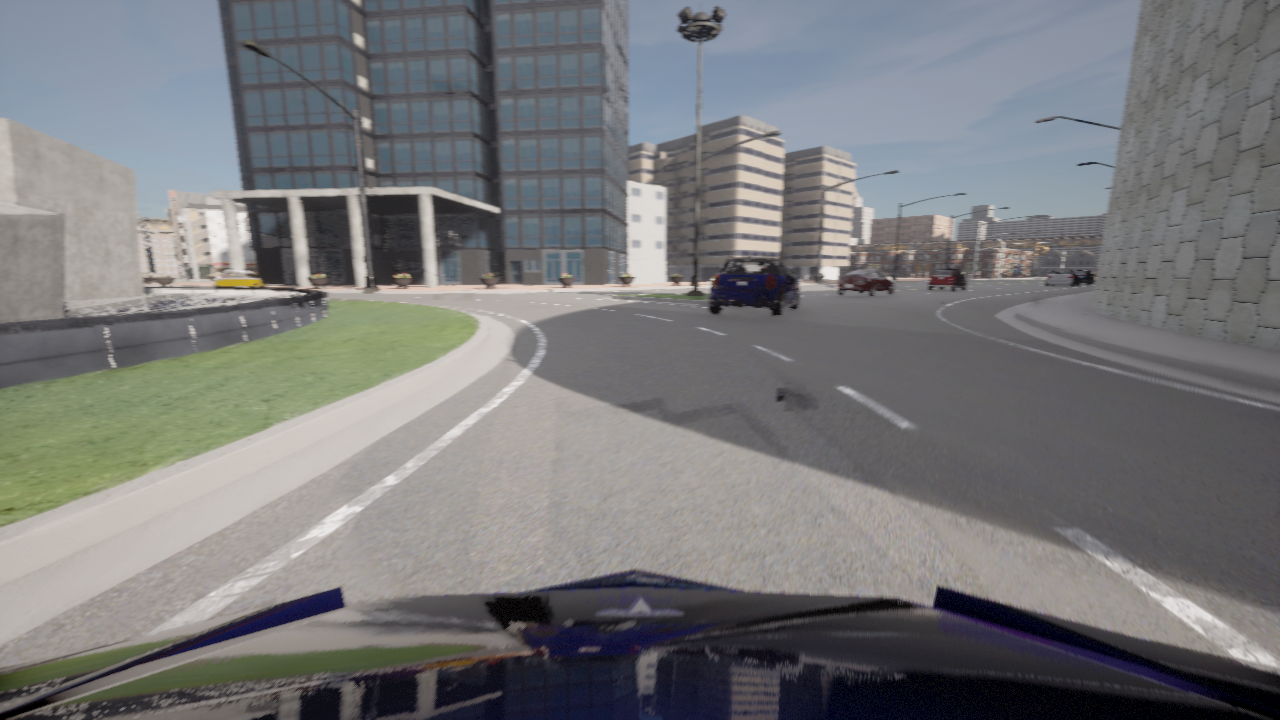cyclist: (0, 569, 1279, 719), (708, 256, 800, 315), (836, 269, 895, 296), (212, 270, 264, 286), (928, 269, 966, 290), (1045, 269, 1080, 286), (1074, 270, 1094, 284), (142, 272, 147, 273)
